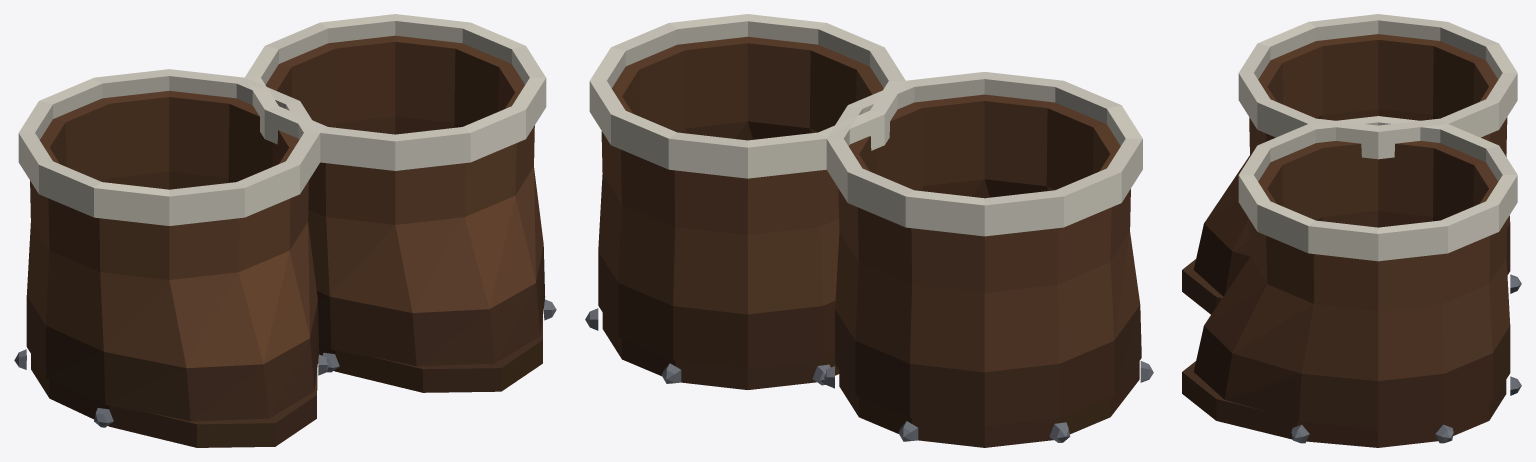
File: armor_feet_hobnail.glb
3 renders of one model, left to right at view 1: azimuth 30°, elevation 25°; view 2: azimuth 150°, elevation 25°; view 3: azimuth 270°, elevation 25°, orthographic. The views are drawn at different scales.
Parts seen in each view (by area): view 1: armor_feet_hobnail_R, armor_feet_hobnail; view 2: armor_feet_hobnail_R, armor_feet_hobnail; view 3: armor_feet_hobnail, armor_feet_hobnail_R.
Boxes of the visible parts, x1=… form: armor_feet_hobnail_R: x1=14, y1=69, x2=328, y2=447; armor_feet_hobnail: x1=245, y1=14, x2=556, y2=392; armor_feet_hobnail_R: x1=824, y1=72, x2=1153, y2=447; armor_feet_hobnail: x1=585, y1=14, x2=905, y2=389; armor_feet_hobnail: x1=1182, y1=116, x2=1521, y2=447; armor_feet_hobnail_R: x1=1182, y1=14, x2=1521, y2=314.
Bounding box in the file's own units: 0.69 × 0.322 × 0.4504.
